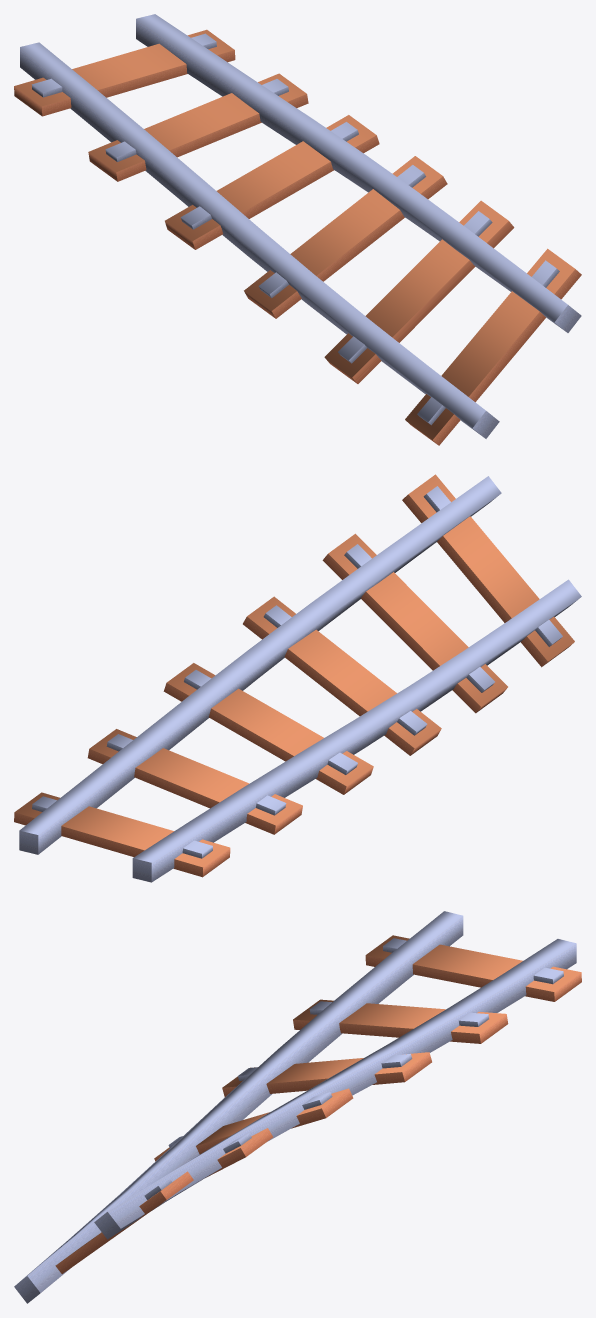
Rendered from railroad-straight-skew-right.glb.
The picture shows the model from 3 angles, top to bottom: view 1: azimuth 30°, elevation 25°; view 2: azimuth 150°, elevation 25°; view 3: azimuth 330°, elevation 25°; orthographic projection. The views are drawn at different scales.
Visible parts, largest first — view 1: railroad-straight-skew-right; view 2: railroad-straight-skew-right; view 3: railroad-straight-skew-right.
Boxes of the visible parts, <box> form: railroad-straight-skew-right: <box>14,14,581,445</box>; railroad-straight-skew-right: <box>14,474,581,882</box>; railroad-straight-skew-right: <box>14,911,581,1303</box>.
Bounding box in the file's own units: 1 × 0.7105 × 4.
1 material, 1 textured.
